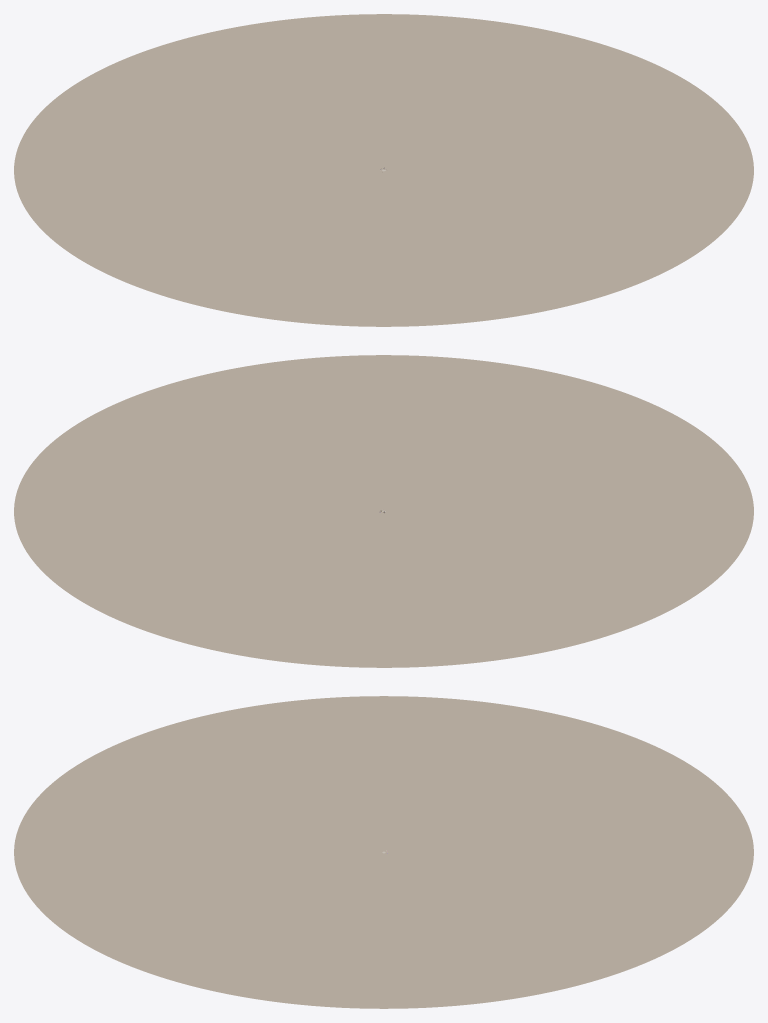
File: pastel-studio.glb
3 views of the same model, one above another, from view 1: azimuth 30°, elevation 25°; view 2: azimuth 150°, elevation 25°; view 3: azimuth 270°, elevation 25° (orthographic).
Parts seen in each view (by area): view 1: StudioFloor; view 2: StudioFloor; view 3: StudioFloor.
Boxes of the visible parts, x1,y1,x2,y2 form: StudioFloor: (14,14,753,326); StudioFloor: (14,355,753,667); StudioFloor: (14,696,753,1008).
Size of the model in its own units: 40 by 0.28 by 40.
